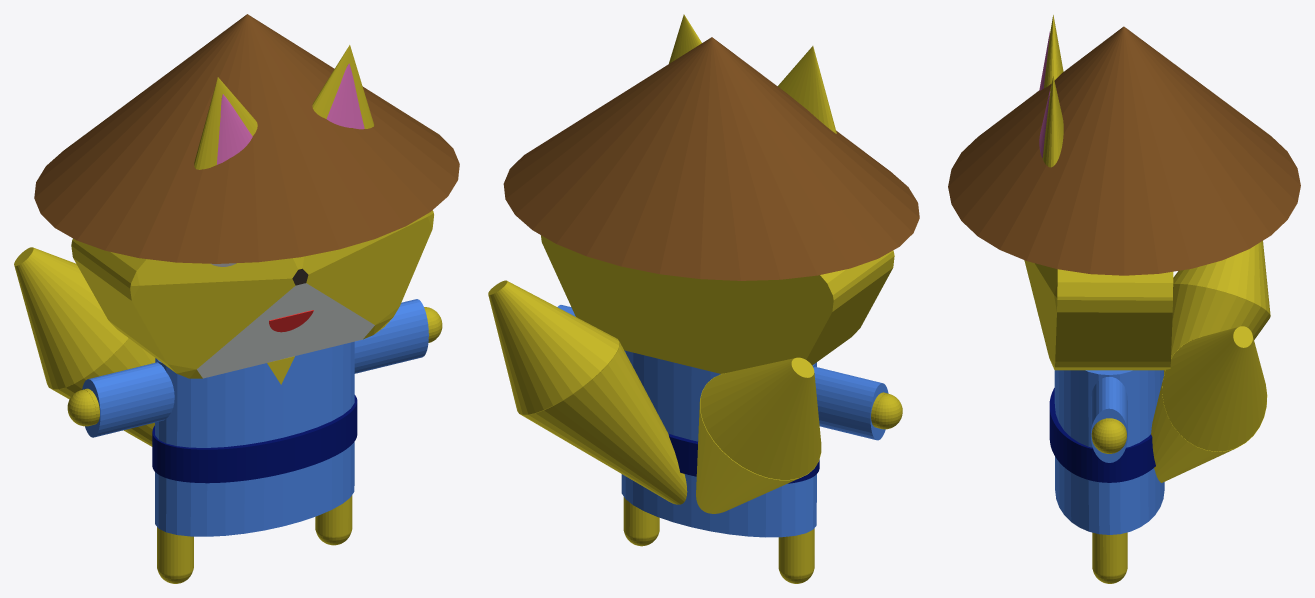
File: Player_edit.fbx
3 views of the same model, side by side, from view 1: azimuth 30°, elevation 25°; view 2: azimuth 150°, elevation 25°; view 3: azimuth 270°, elevation 25° (orthographic). The views are drawn at different scales.
Parts seen in each view (by area): view 1: Yocon; view 2: Yocon; view 3: Yocon.
Boxes of the visible parts, x1,y1,x2,y2 form: Yocon: (14,14,459,583); Yocon: (488,14,919,583); Yocon: (948,15,1300,583).
Bounding box in the file's own units: 240 × 325 × 200.
